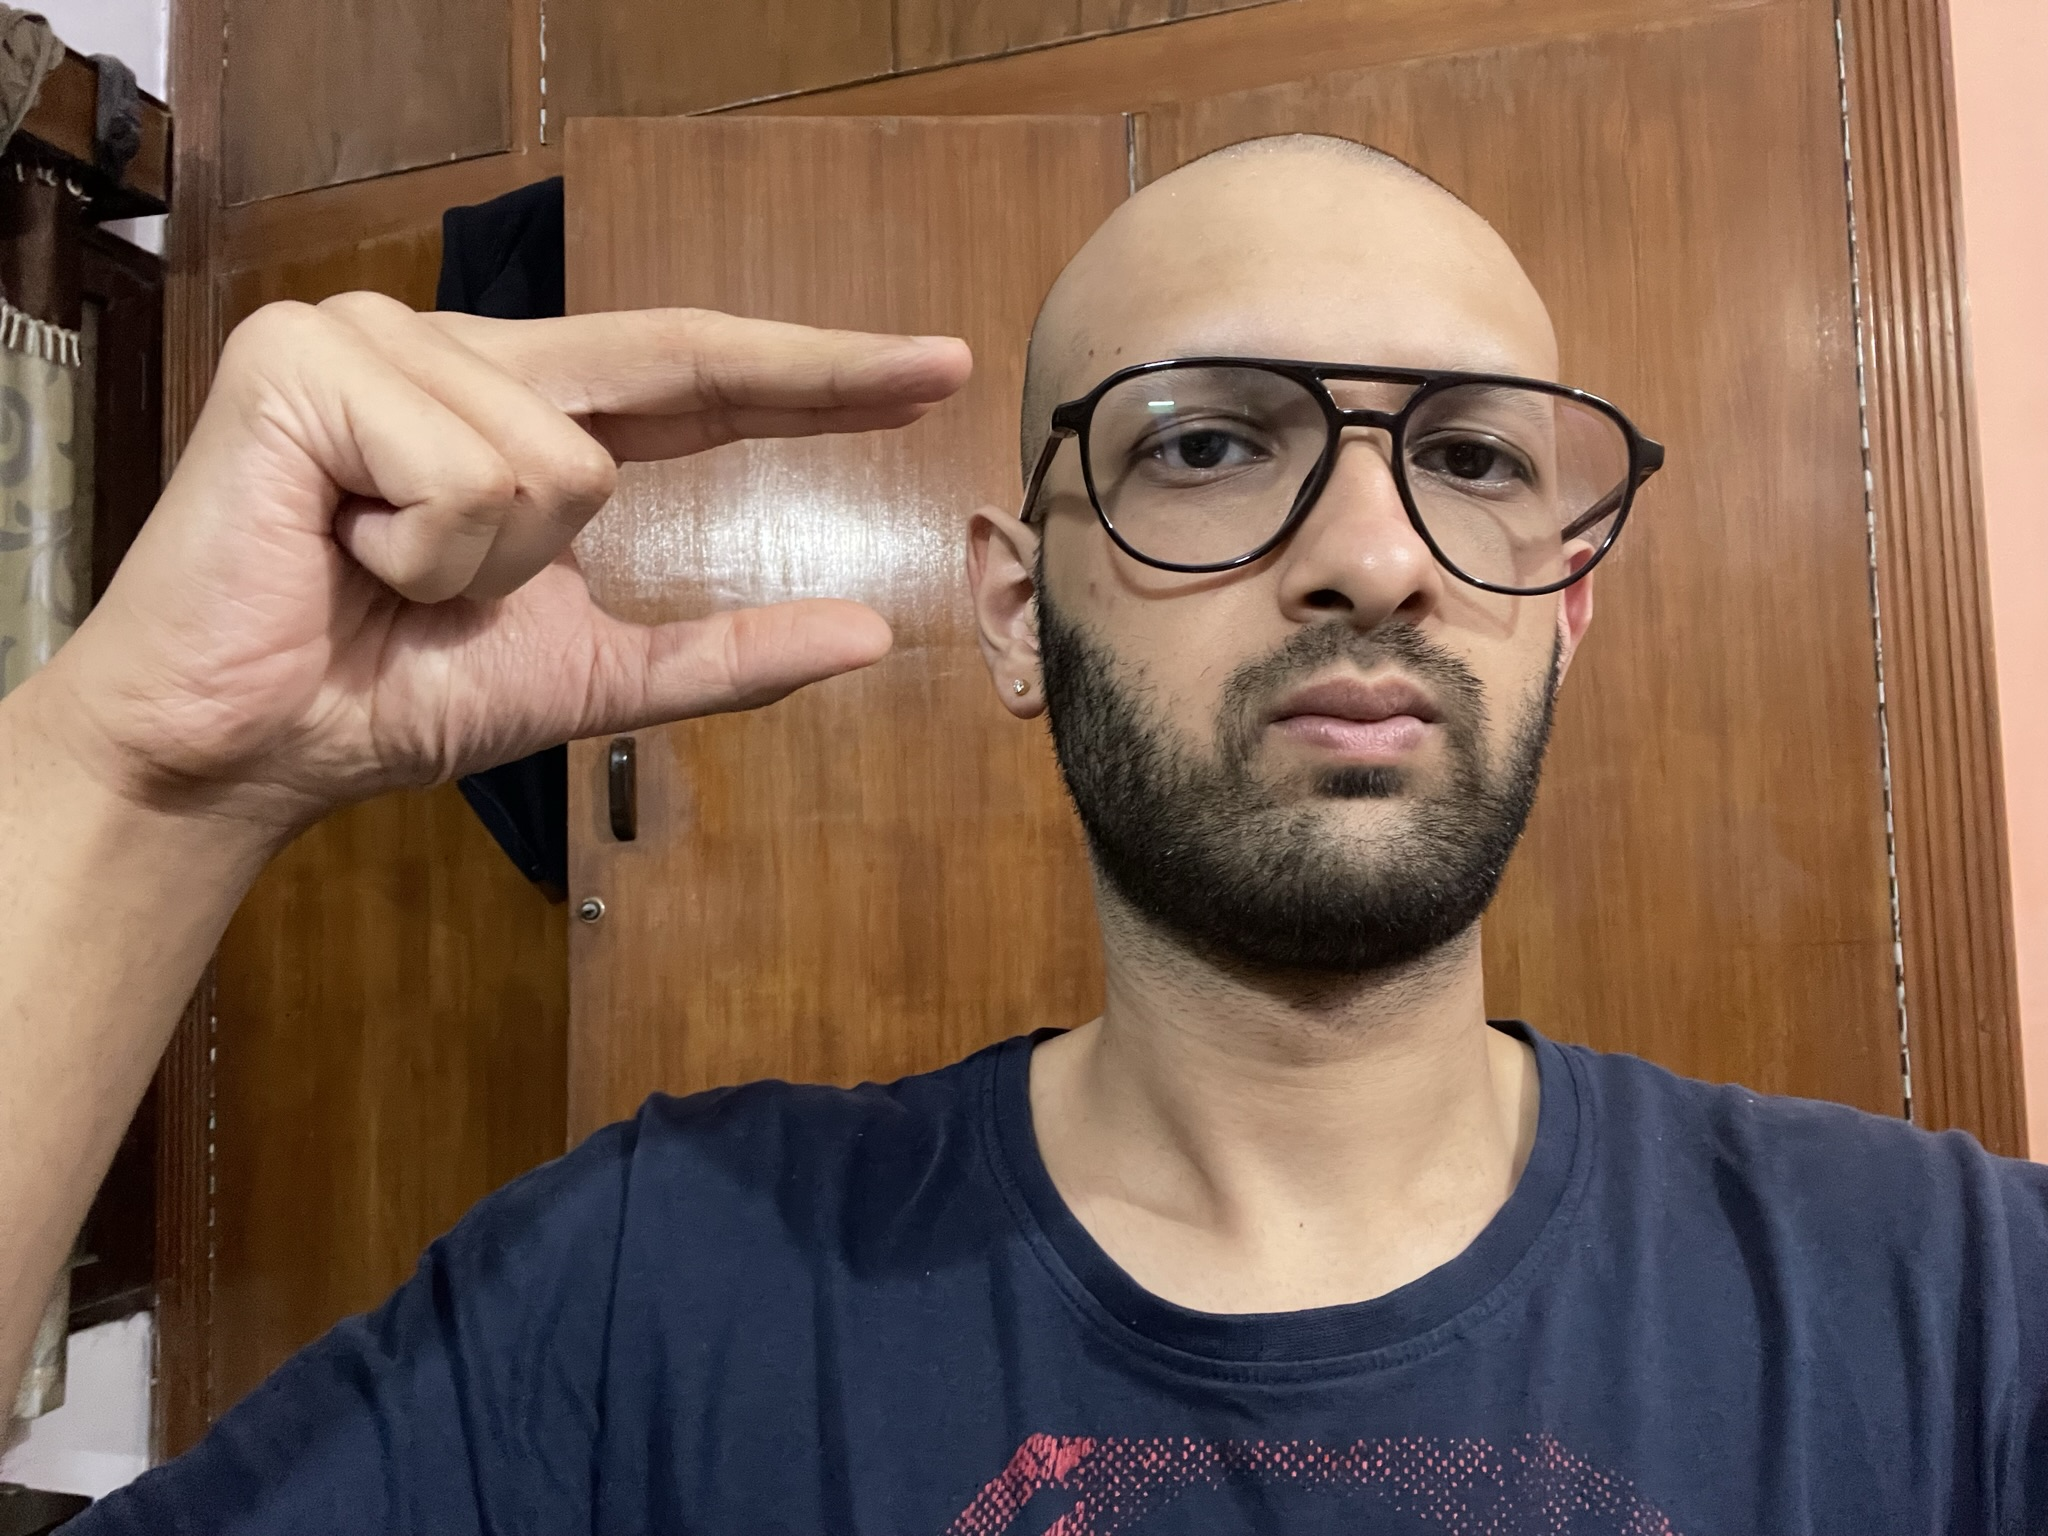No: (29, 287, 985, 812)
